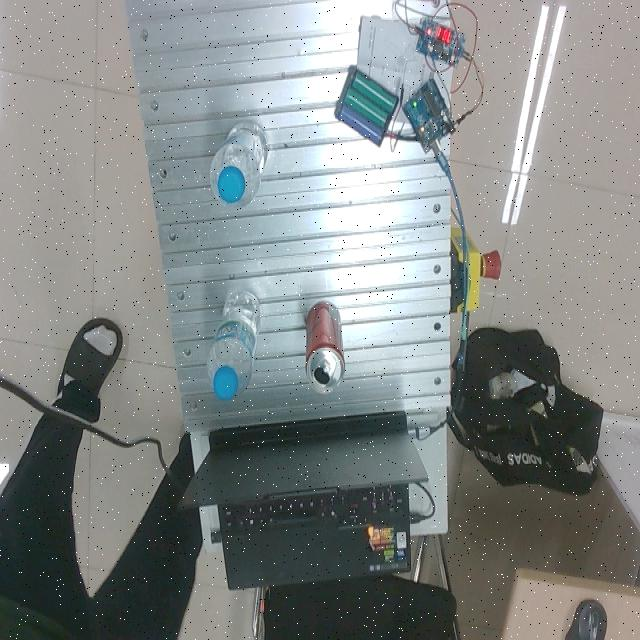coca: (305, 301, 346, 396)
lavie: (207, 291, 262, 401), (210, 122, 269, 210)
